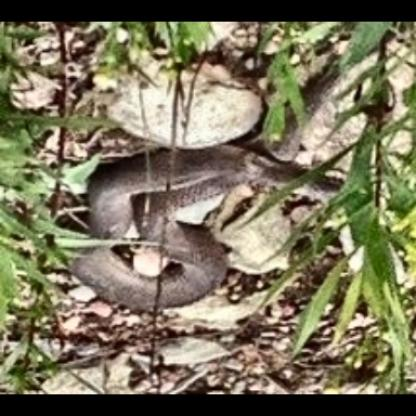Snake: (8, 59, 416, 360)
